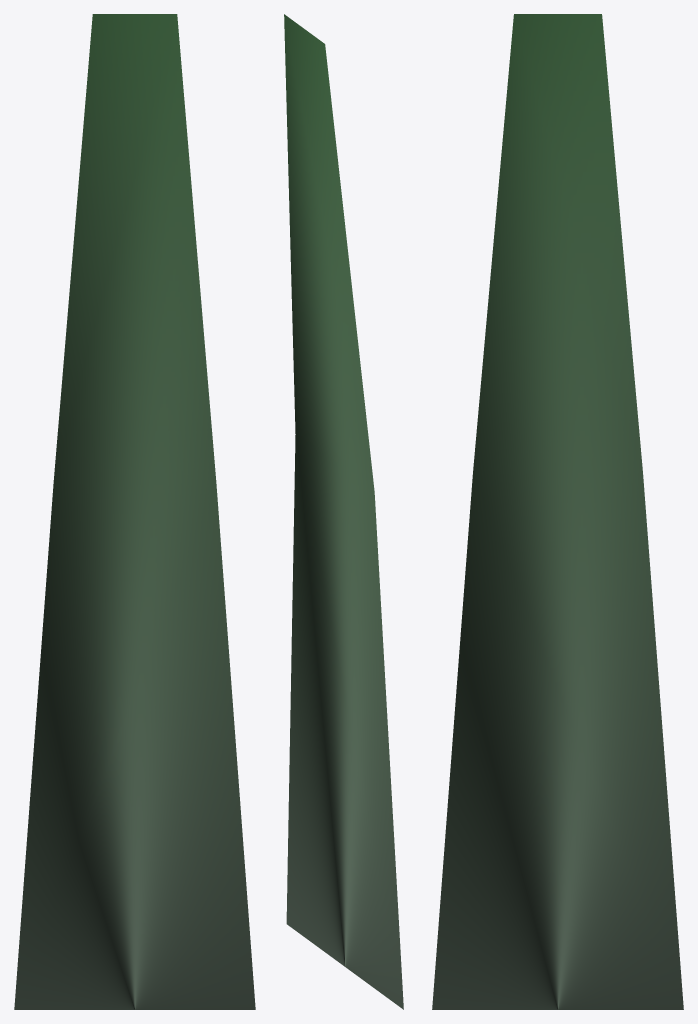
File: Blade_Lawn_Thin.glb
3 views of the same model, side by side, from view 1: azimuth 90°, elevation 25°; view 2: azimuth 210°, elevation 25°; view 3: azimuth 270°, elevation 25° (orthographic). The views are drawn at different scales.
Visible parts, largest first — view 1: Blade_Lawn_Thin; view 2: Blade_Lawn_Thin; view 3: Blade_Lawn_Thin.
Part boxes in pixels (x1,y1,x2,y2): Blade_Lawn_Thin: (14,14,255,1009); Blade_Lawn_Thin: (284,14,403,1009); Blade_Lawn_Thin: (432,14,683,1009).
Bounding box in the file's own units: 0.003 × 0.0669 × 0.015.
